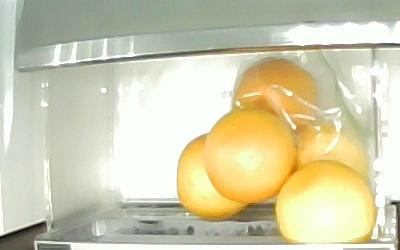grapefruit: (202, 105, 296, 202), (274, 158, 376, 243), (175, 130, 249, 219)
grapefruit_vinyl: (230, 58, 318, 132), (292, 121, 369, 180)
